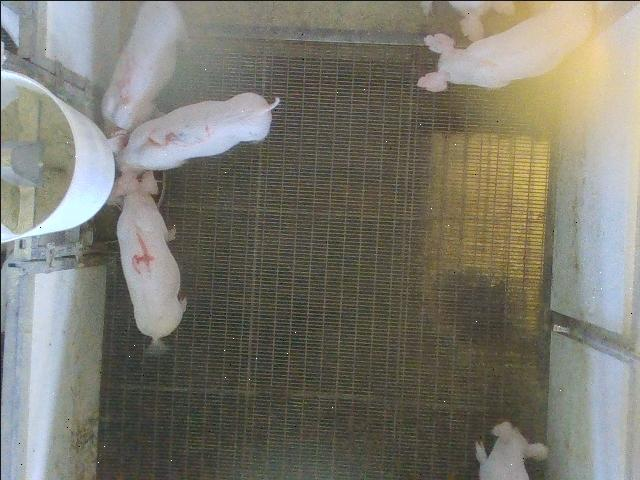pig-3: (108, 92, 278, 195)
pig-4: (116, 188, 185, 349)
pig-5: (101, 1, 182, 130)
